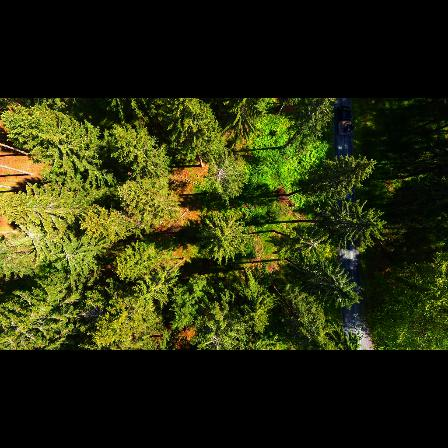Sick: (205, 156, 236, 193), (302, 230, 328, 261)
